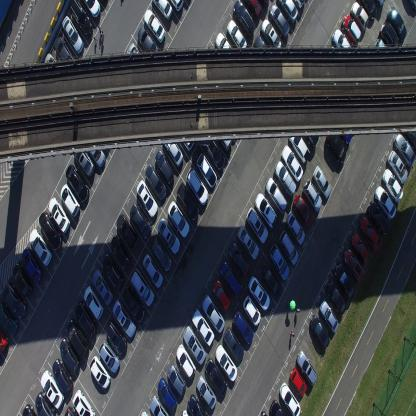car: (130, 266, 155, 307), (68, 0, 93, 41), (38, 210, 62, 252), (40, 369, 64, 410), (66, 163, 90, 204), (60, 13, 84, 54), (176, 181, 200, 221), (112, 299, 136, 339), (183, 325, 206, 366), (201, 295, 225, 334), (100, 253, 124, 292), (186, 166, 209, 206), (66, 319, 89, 359), (392, 132, 416, 170), (191, 308, 215, 346), (128, 201, 152, 239), (264, 176, 288, 213), (136, 178, 158, 218), (122, 284, 144, 324), (254, 192, 277, 230), (214, 344, 237, 382), (144, 163, 167, 201), (168, 200, 191, 238), (366, 200, 390, 236), (92, 268, 114, 307), (116, 212, 138, 251), (358, 216, 381, 253), (287, 127, 310, 164), (280, 144, 303, 181), (247, 274, 270, 311), (220, 260, 243, 297), (204, 359, 227, 396), (157, 217, 180, 254), (29, 229, 52, 266), (3, 280, 26, 317), (335, 262, 356, 302), (104, 320, 128, 355), (343, 246, 365, 284), (292, 192, 314, 230), (274, 160, 296, 198), (246, 206, 268, 244), (48, 196, 70, 234), (21, 246, 43, 284), (11, 262, 33, 300), (51, 358, 74, 394), (233, 0, 255, 37), (99, 338, 121, 375), (110, 234, 132, 271), (53, 35, 76, 70), (268, 242, 289, 280), (75, 300, 96, 338), (296, 349, 318, 385), (228, 241, 250, 277), (203, 134, 225, 170), (142, 253, 164, 289), (161, 132, 184, 166), (143, 8, 166, 42), (136, 25, 159, 59), (196, 152, 217, 189), (278, 380, 300, 415), (374, 184, 396, 219), (382, 168, 404, 203), (332, 28, 354, 63), (268, 2, 289, 38), (223, 326, 244, 362), (176, 343, 197, 379), (90, 354, 111, 390), (59, 338, 80, 374), (83, 285, 104, 321), (237, 225, 259, 259), (232, 310, 254, 344), (196, 374, 218, 408), (214, 31, 236, 65), (150, 238, 172, 272), (154, 149, 174, 186), (157, 376, 178, 411), (59, 183, 80, 218), (72, 145, 94, 178), (42, 51, 64, 84), (286, 210, 306, 246), (260, 18, 281, 52), (325, 128, 346, 162), (226, 19, 247, 53), (279, 228, 298, 265), (310, 314, 330, 349), (326, 280, 346, 315), (174, 116, 194, 151), (340, 13, 361, 46), (0, 300, 19, 336), (319, 298, 339, 332), (262, 264, 282, 298), (166, 363, 186, 397), (213, 117, 233, 151), (86, 133, 106, 167), (253, 33, 273, 66), (299, 113, 318, 147), (303, 179, 322, 213), (127, 42, 146, 76), (350, 232, 370, 264), (388, 150, 408, 182), (212, 279, 232, 311), (380, 21, 401, 51), (313, 164, 331, 198), (399, 118, 415, 154), (334, 113, 352, 145), (73, 389, 95, 415), (350, 2, 369, 32), (373, 38, 393, 66), (243, 294, 261, 325), (34, 392, 57, 415), (186, 393, 209, 415), (386, 7, 404, 35), (148, 394, 170, 416), (290, 367, 306, 397), (357, 0, 378, 22), (278, 0, 298, 23), (152, 0, 172, 20), (241, 0, 262, 19), (82, 0, 101, 21), (269, 400, 287, 416), (0, 330, 9, 356), (169, 0, 184, 13), (21, 403, 36, 415), (64, 404, 77, 415), (294, 0, 306, 8), (408, 0, 415, 13), (179, 408, 190, 416), (374, 0, 386, 6), (259, 408, 269, 415), (140, 410, 150, 416)
